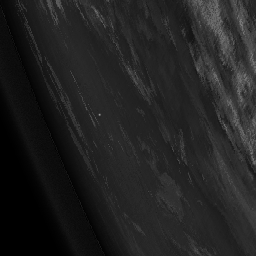Target: (97, 112, 101, 117)
